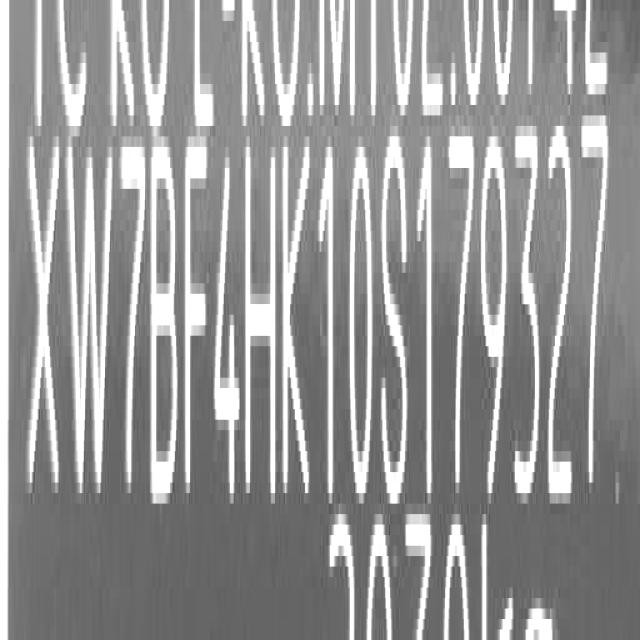0: (347, 128, 375, 510)
1: (420, 122, 437, 510)
2: (547, 116, 574, 521)
3: (517, 117, 544, 517)
4: (214, 160, 244, 517)
7: (579, 97, 608, 510), (446, 121, 476, 519), (118, 136, 146, 505)
9: (478, 122, 509, 515)
B: (149, 146, 181, 517)
F: (184, 147, 212, 518)
H: (247, 135, 280, 513)
K: (282, 135, 312, 522)
S: (381, 126, 412, 512), (317, 140, 337, 513)
W: (66, 140, 116, 515)
X: (27, 146, 64, 514)
